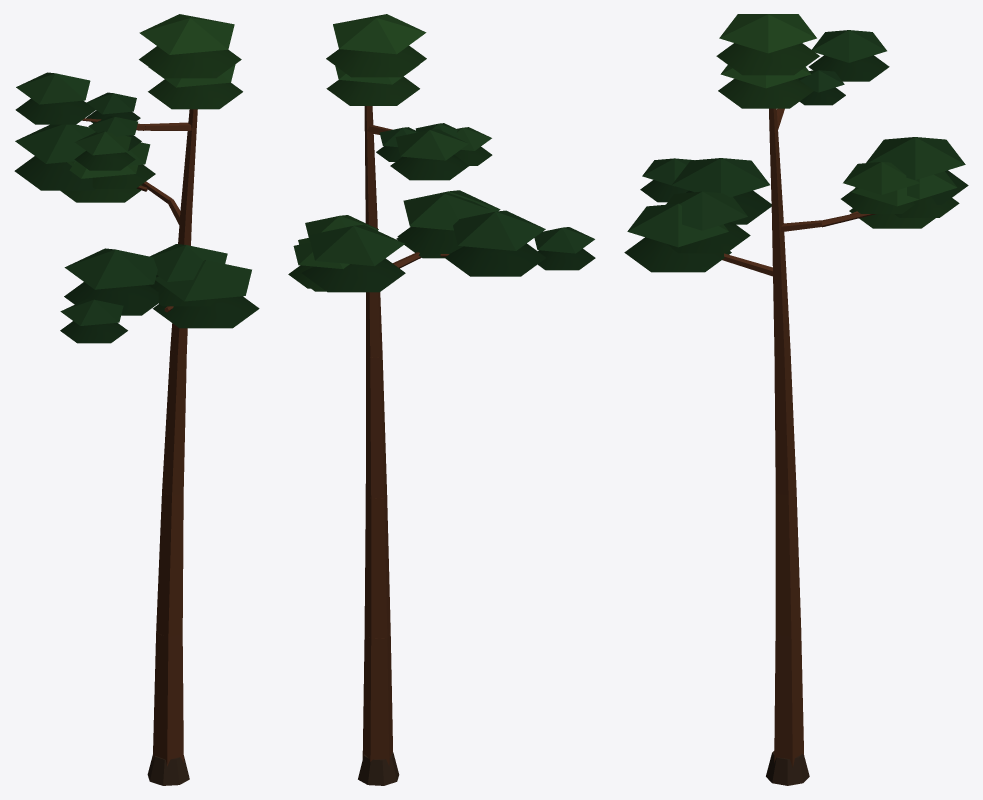
Rendered from tree_pine_1_far.glb.
The picture shows the model from 3 angles, left to right: view 1: azimuth 30°, elevation 25°; view 2: azimuth 150°, elevation 25°; view 3: azimuth 270°, elevation 25°; orthographic projection. The views are drawn at different scales.
Parts seen in each view (by area): view 1: leaf, wood; view 2: leaf, wood; view 3: leaf, wood.
Boxes of the visible parts, box(x1,y1,x2,y2) form: leaf: box(14, 14, 259, 343); wood: box(82, 109, 197, 785); leaf: box(288, 14, 595, 292); wood: box(358, 106, 449, 785); leaf: box(624, 14, 968, 272); wood: box(722, 108, 875, 785).
Size of the model in its own units: 4.74 by 16.16 by 6.57.
